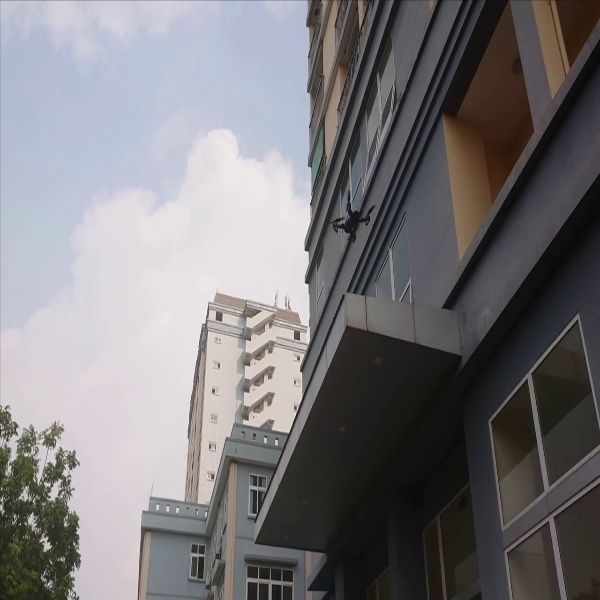drone: (324, 189, 383, 248)
